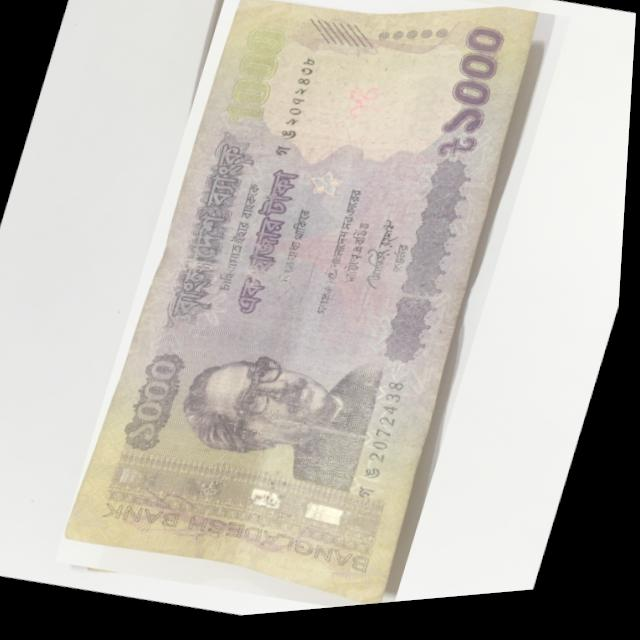Taka: (58, 0, 574, 634)
